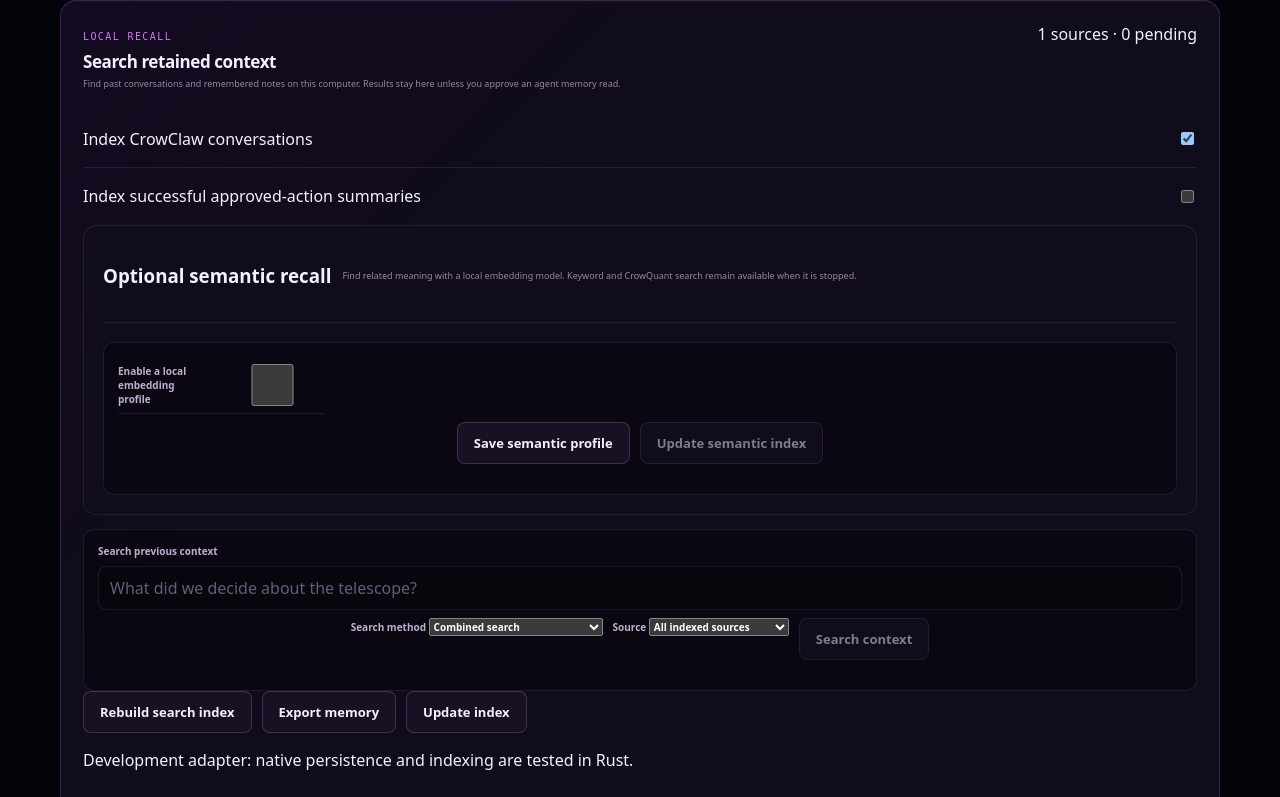
Native memory controls › reports an indexing failure without erasing the old result
The width and height of the screenshot is (1280, 797).
Expected: the heading "Search retained context" is shown, x1=83 y1=50 x2=276 y2=73
Click the button "Rebuild search index" at [167, 712], box x1=83 y1=691 x2=252 y2=733
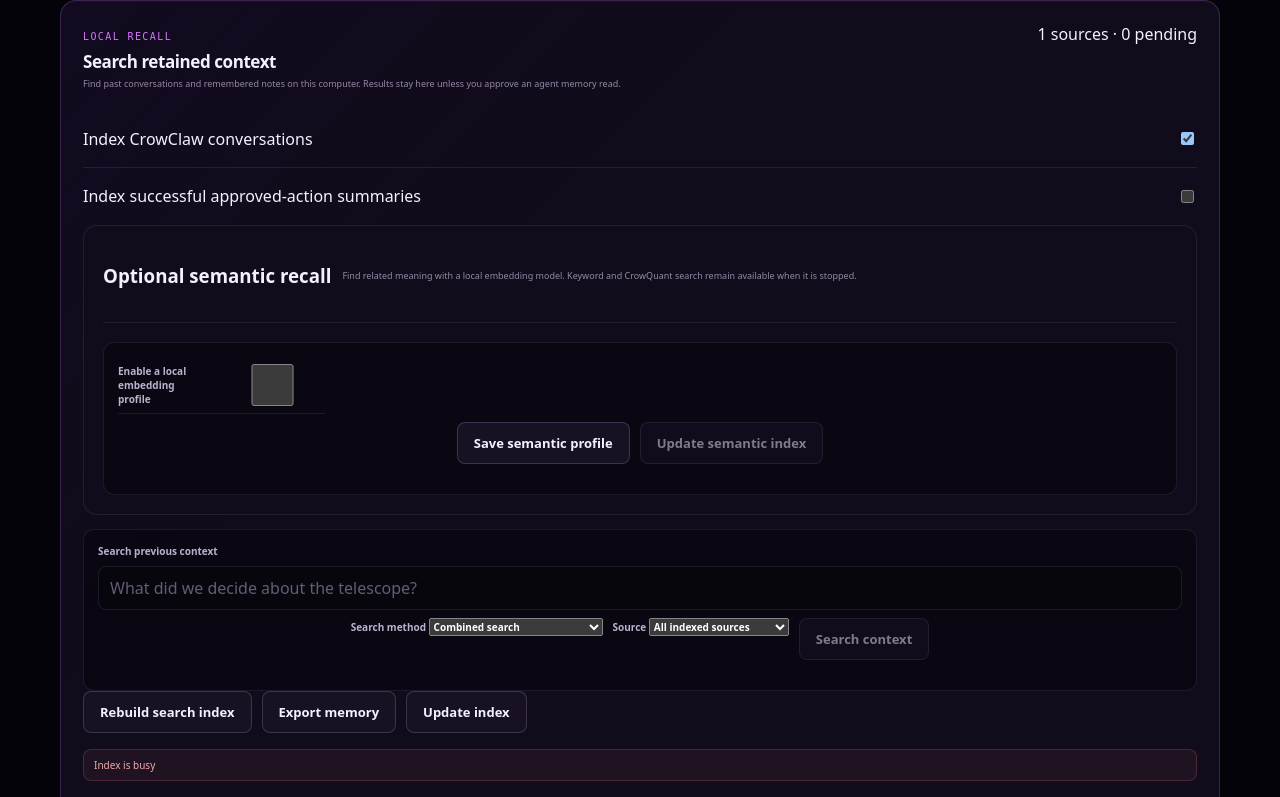
Expected: the message "Index is busy" is shown, x1=83 y1=749 x2=1197 y2=781
